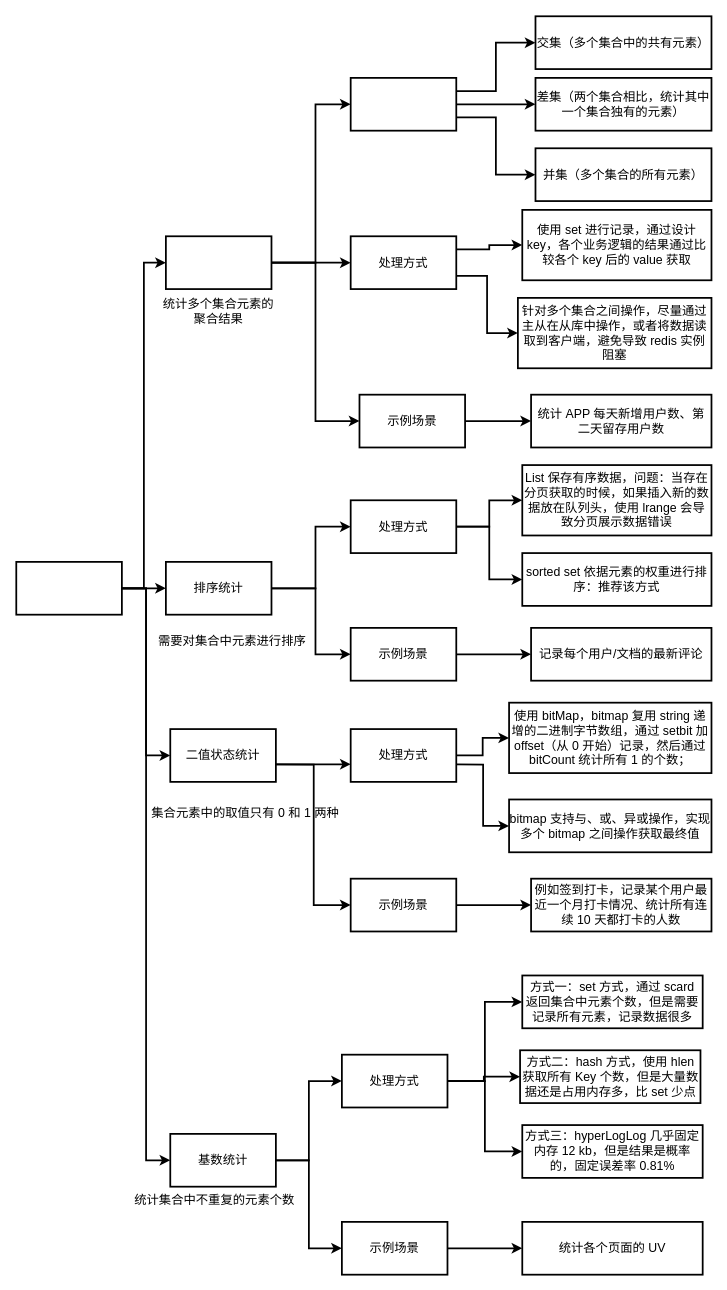
Some shapes in this 727 by 1290 pixel diagram are drawn without their labels. Each missing label, with the box of its shape:
类型: (349, 77, 457, 131)
统计: (15, 561, 122, 615)
聚合统计: (165, 235, 272, 290)
